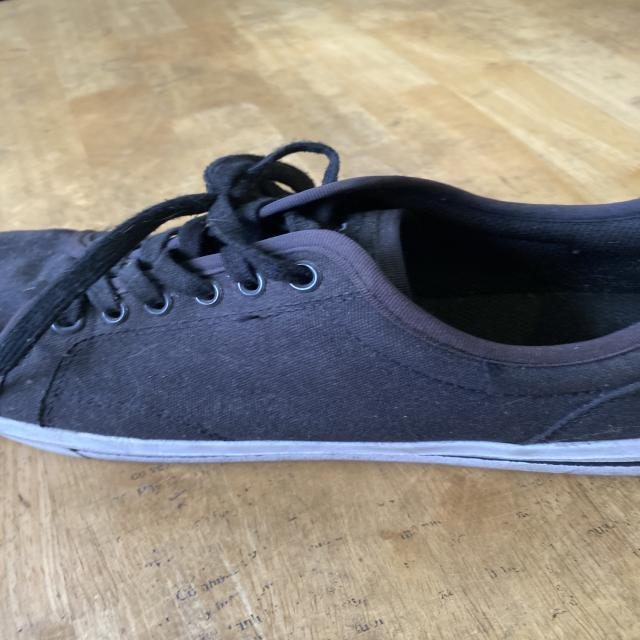broken-error: (219, 302, 274, 337), (458, 355, 517, 384)
